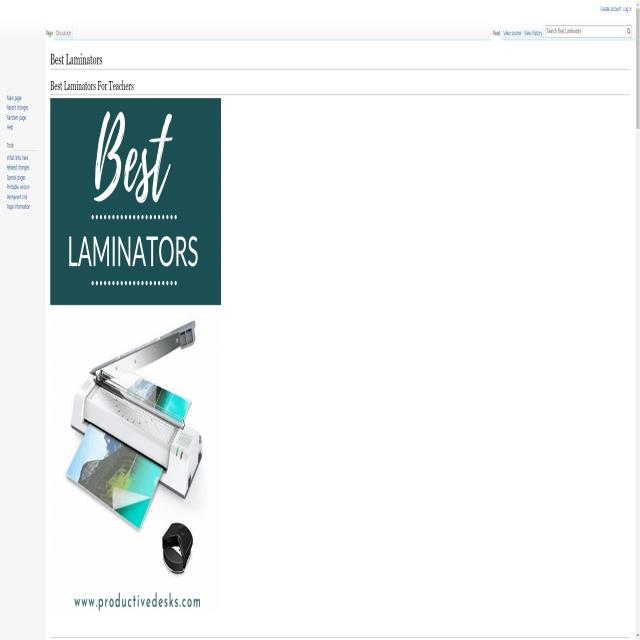menu-bar: (598, 2, 632, 13)
menu-panel: (5, 91, 38, 218)
search: (546, 22, 632, 40)
tab-bar: (491, 24, 543, 42), (40, 25, 74, 40)
